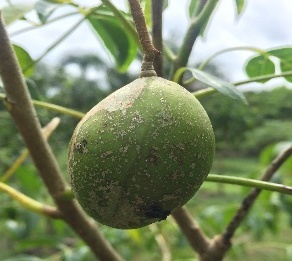Coc: (65, 76, 216, 229)
